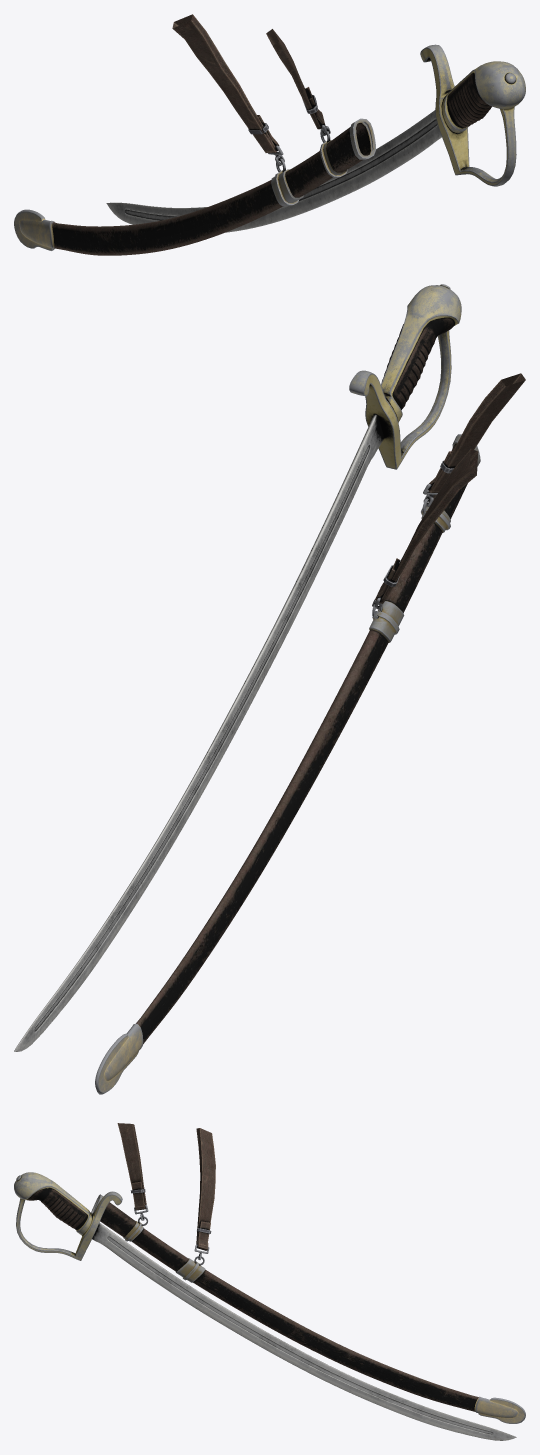
The model's file is w_curved_sword__cavalry-saber-ww1-sabre-sword.glb.
The picture shows the model from 3 angles, top to bottom: view 1: azimuth 30°, elevation 25°; view 2: azimuth 150°, elevation 25°; view 3: azimuth 270°, elevation 25°; orthographic projection. The views are drawn at different scales.
Visible parts, largest first — view 1: Scabbard, Blade, handle_metal, Straps, handle_leather, Clips; view 2: Scabbard, Blade, handle_metal, Straps, handle_leather; view 3: Scabbard, Blade, Straps, handle_metal, handle_leather.
Boxes of the visible parts, x1,y1,x2,y2 form: Scabbard: (14,118,375,255); Blade: (106,110,441,232); handle_metal: (420,44,525,186); Straps: (172,14,325,152); handle_leather: (447,73,491,128); Clips: (248,94,330,171); Scabbard: (95,434,480,1094); Blade: (14,414,383,1051); handle_metal: (349,284,461,469); Straps: (375,373,525,603); handle_leather: (382,317,454,409); Scabbard: (91,1194,525,1423); Blade: (92,1222,516,1440); Straps: (117,1123,215,1250); handle_metal: (14,1172,122,1260); handle_leather: (26,1187,87,1229).
Size of the model in its own units: 0.2171 by 0.4618 by 0.7608.
2 materials, 2 textured.
